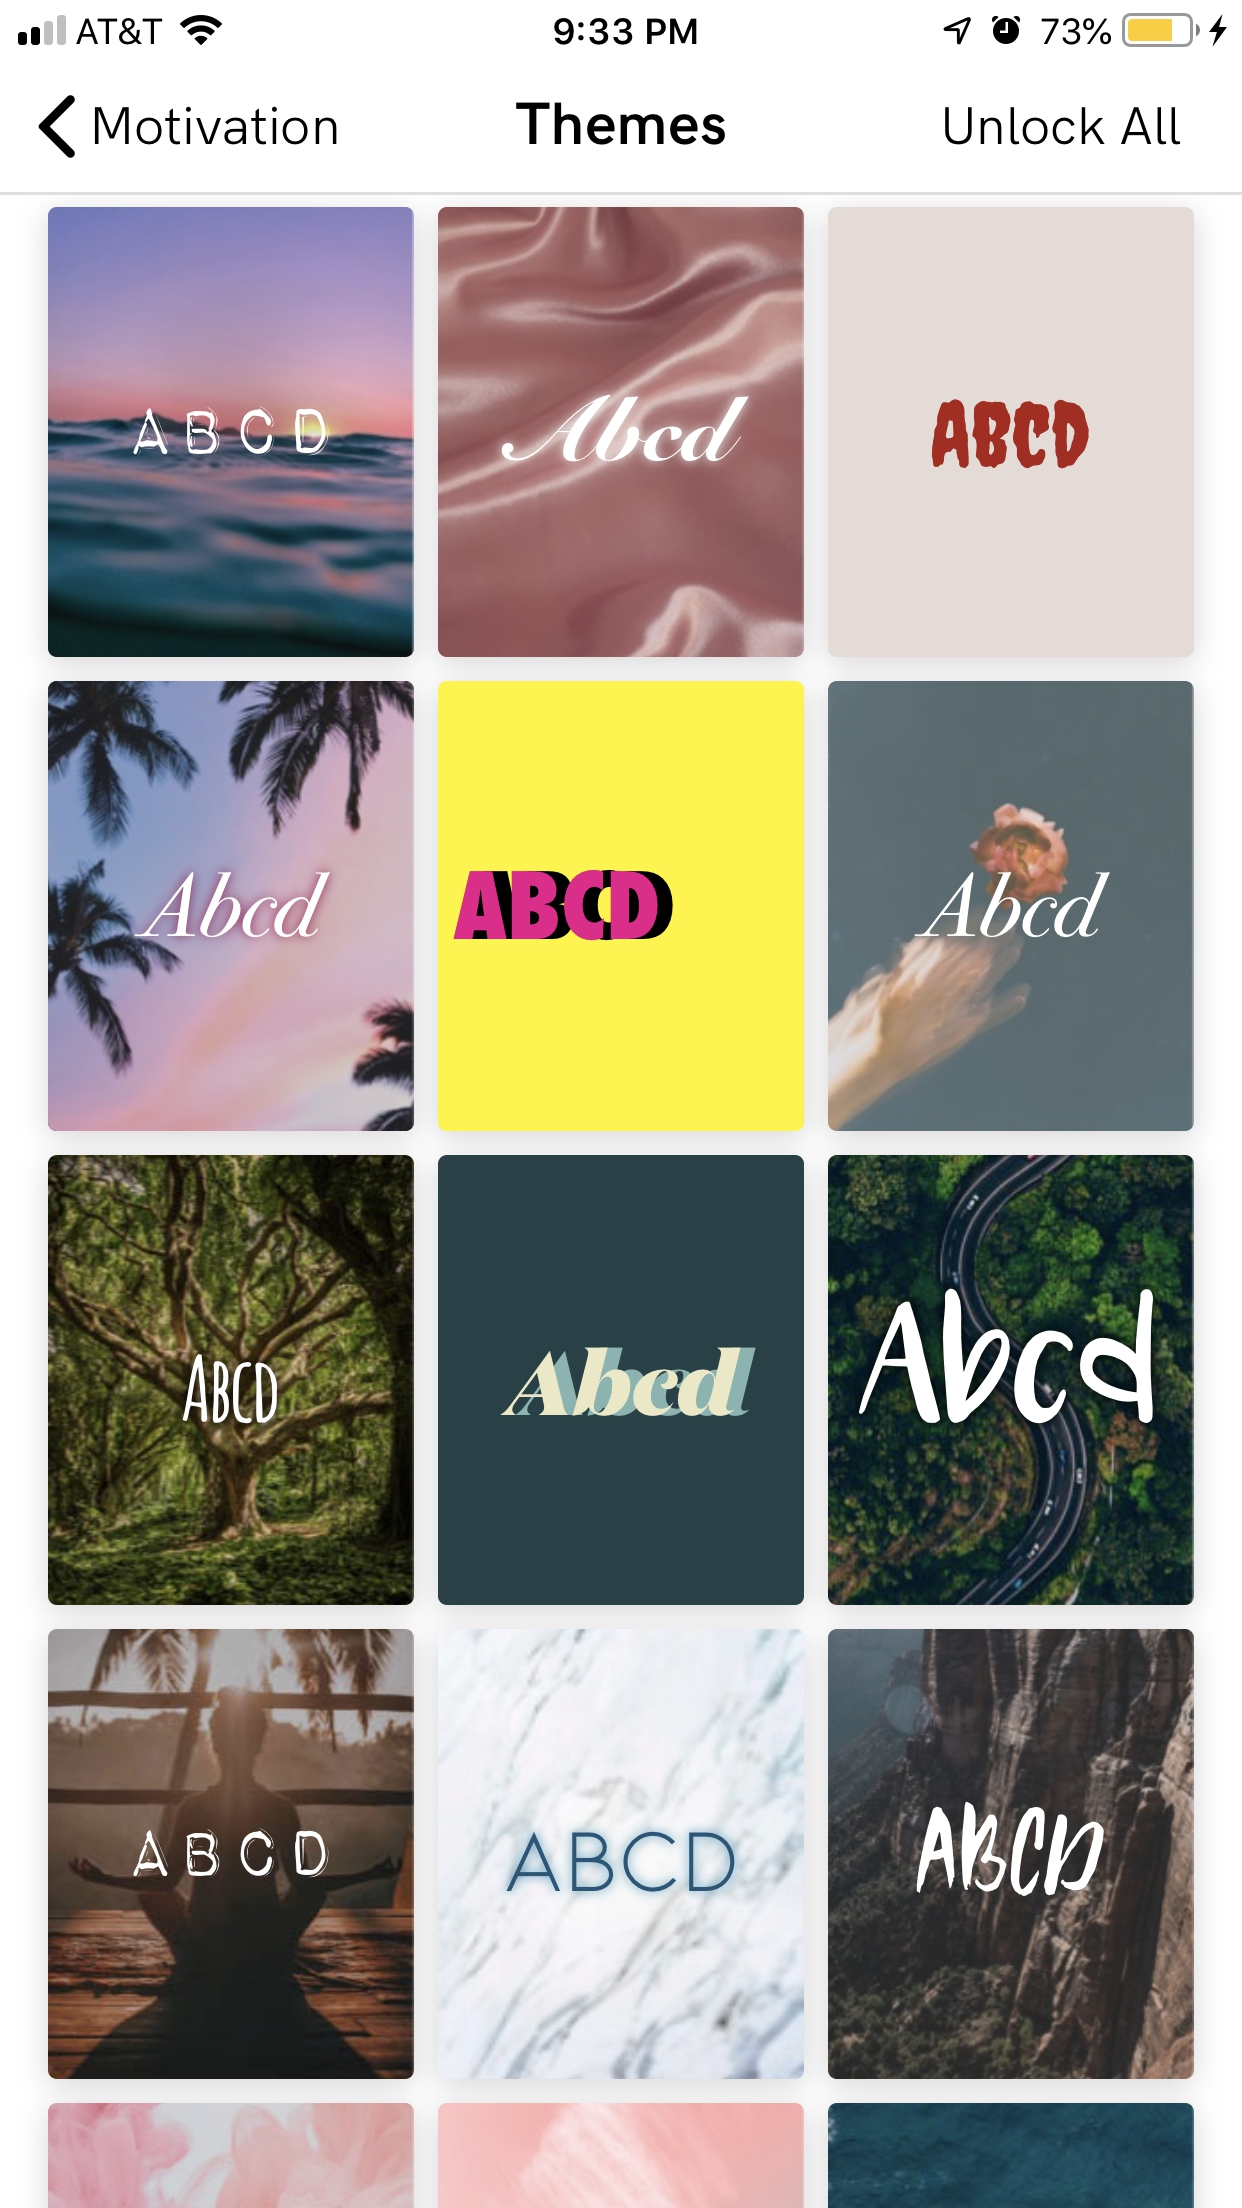Icon: (38, 96, 77, 161)
Image: (49, 206, 416, 660), (828, 1629, 1195, 2081), (49, 1629, 416, 2081), (438, 679, 805, 1131), (828, 206, 1195, 658), (438, 206, 805, 658), (828, 1156, 1195, 1606), (438, 1156, 805, 1606), (49, 1156, 416, 1606), (49, 681, 416, 1131), (828, 681, 1195, 1131), (438, 1629, 804, 2078), (49, 2102, 416, 2208), (438, 2102, 805, 2208), (828, 2102, 1195, 2208)
Text: (516, 102, 726, 147), (96, 106, 338, 146), (945, 108, 1181, 146)
UpperTaskBar: (2, 2, 1242, 49)
